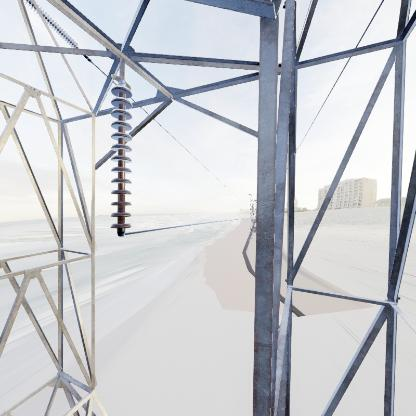insulator: (105, 84, 137, 238)
